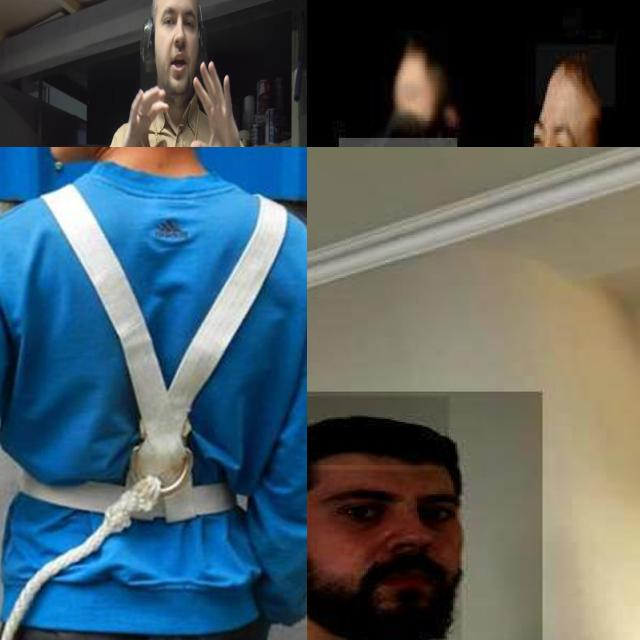Ear-protection: (137, 0, 209, 99)
Harness: (0, 160, 307, 640)
No_Glasses: (308, 473, 462, 538), (157, 1, 197, 43)
face_mask: (516, 109, 593, 147)
face_nomask: (307, 470, 461, 640)
head_nohelmet: (307, 396, 449, 465), (536, 44, 617, 110), (357, 106, 459, 147)
person: (307, 391, 544, 640), (462, 38, 640, 147)
